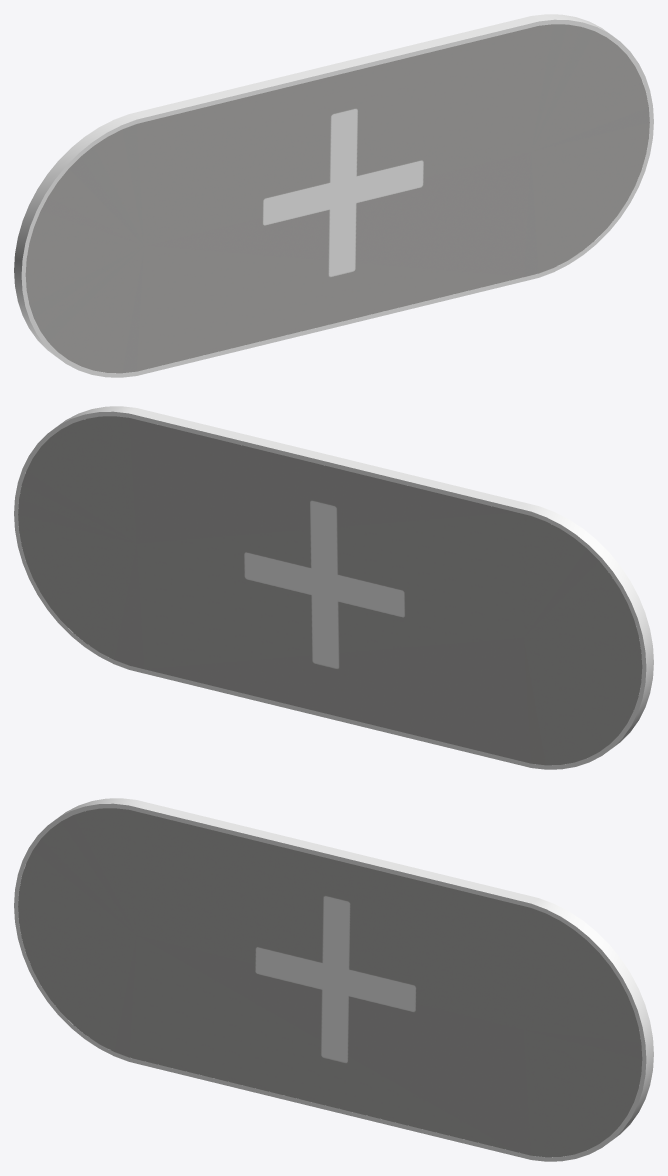
File: add.glb
3 renders of one model, top to bottom at view 1: azimuth 30°, elevation 25°; view 2: azimuth 150°, elevation 25°; view 3: azimuth 330°, elevation 25°, orthographic.
Bounding box in the file's own units: 0.0517 × 0.02 × 0.00107.
2 materials, 1 textured.
